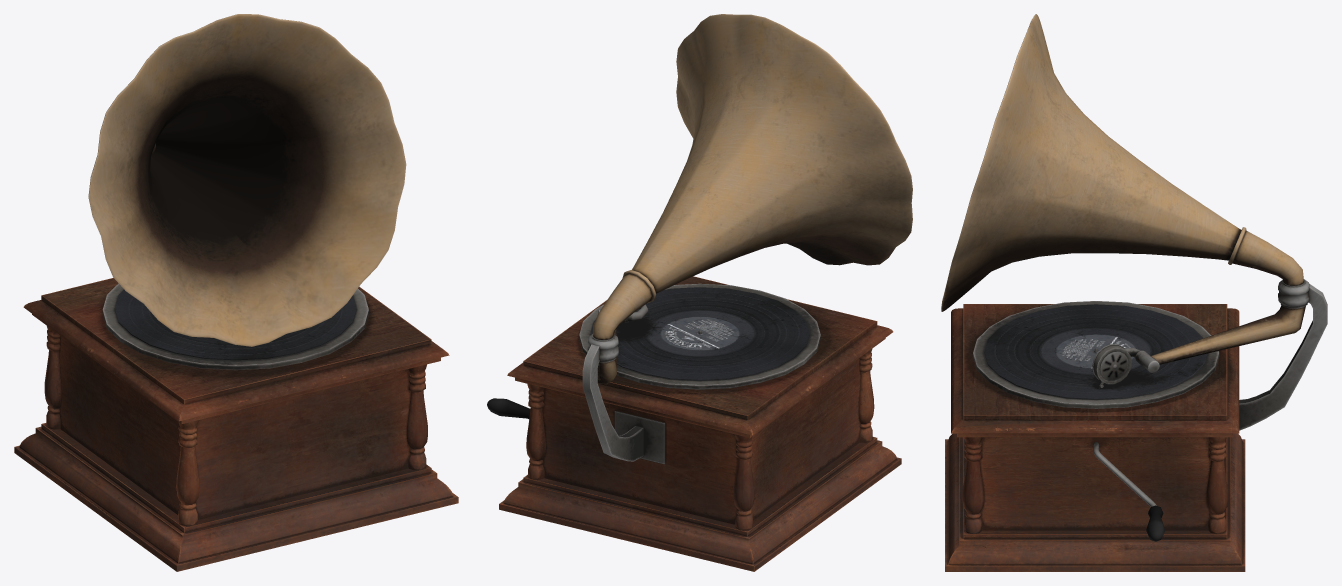
File: gramofon.fbx
The picture shows the model from 3 angles, left to right: view 1: azimuth 30°, elevation 25°; view 2: azimuth 150°, elevation 25°; view 3: azimuth 270°, elevation 25°; orthographic projection. The views are drawn at different scales.
Parts seen in each view (by area): view 1: Circle.001; view 2: Circle.001; view 3: Circle.001.
Boxes of the visible parts, x1,y1,x2,y2 form: Circle.001: (14,14,458,571); Circle.001: (487,14,912,571); Circle.001: (941,14,1327,571).
Size of the model in its own units: 301 by 367 by 278.
